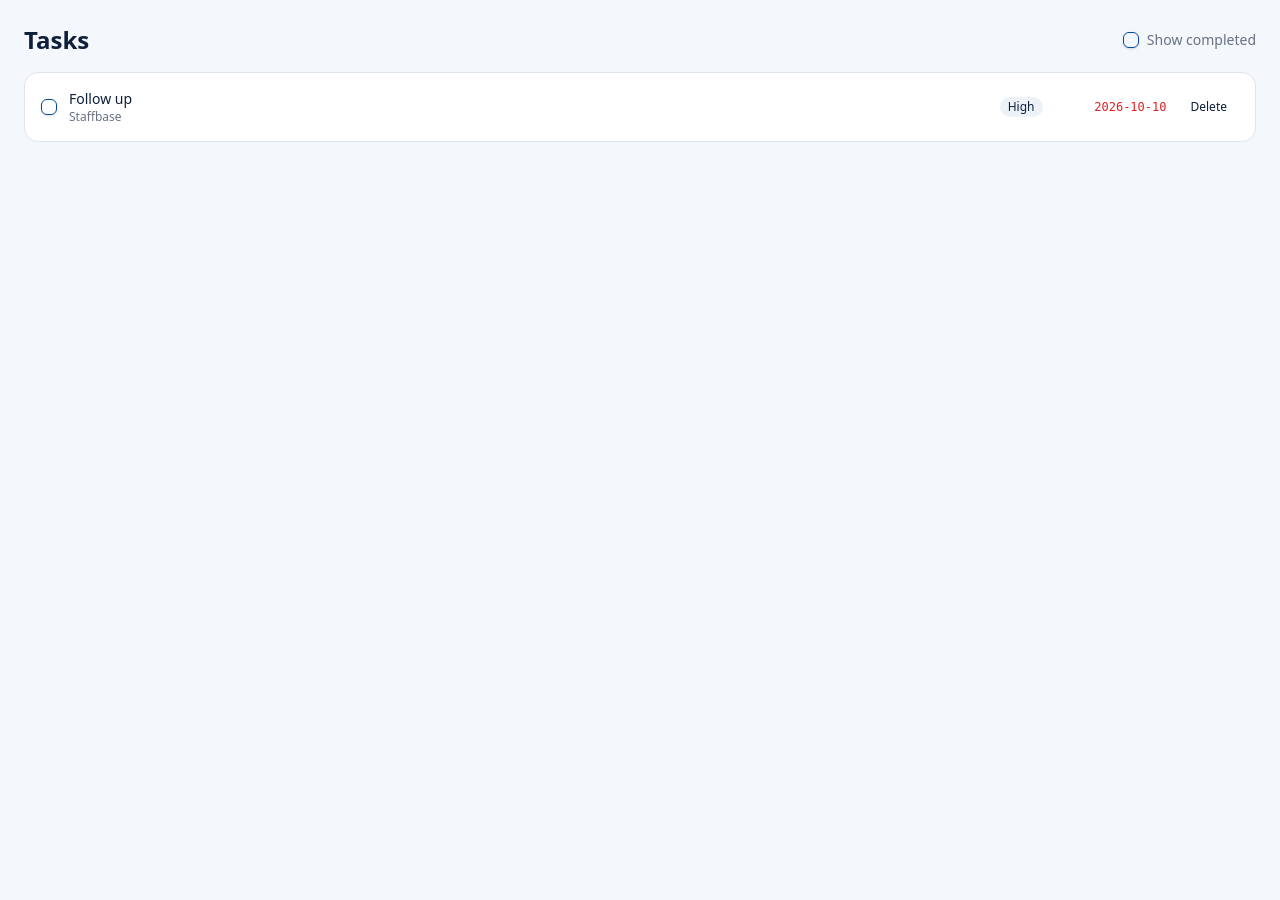
Test case: Task completion confirm popup › asks before completing, then completes on confirm
Later steps or results of the test are not shown.
Expected: the text "Follow up" is shown, [69,89,132,108]
Click the checkbox next to "Follow up" at (49, 107), box [41,99,57,115]
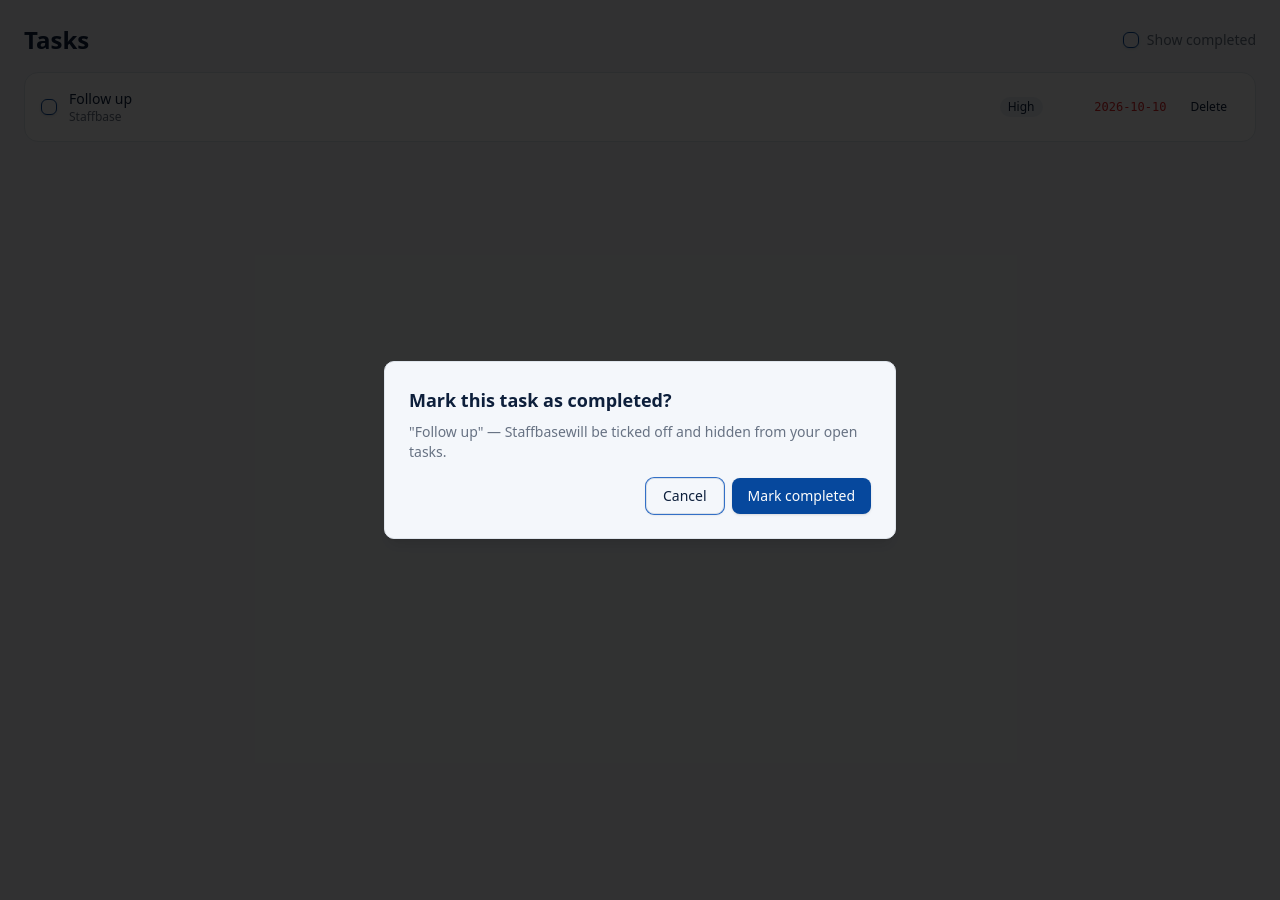
Expected: the dialog shows "Mark this task as completed?", [409,388,672,412]
Expected: the dialog shows "Follow up", [415,422,478,441]
